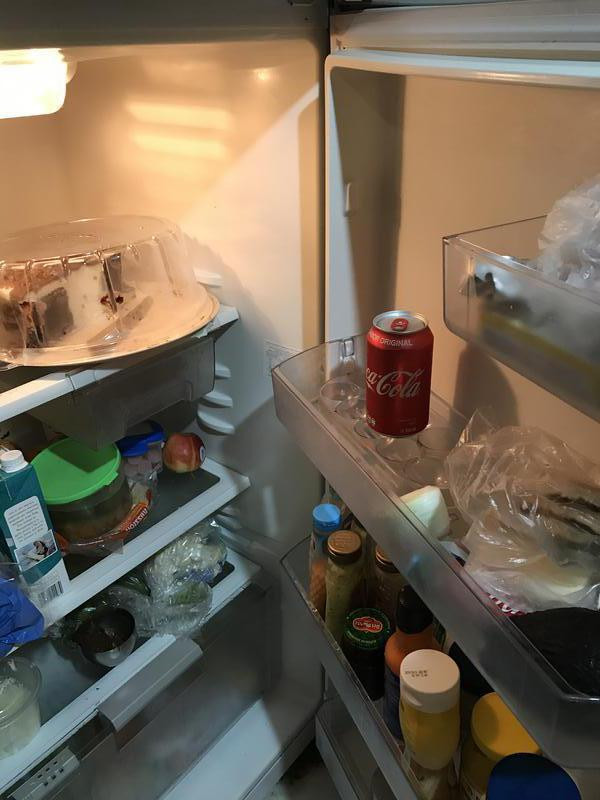coca_cola: (369, 310, 432, 437)
